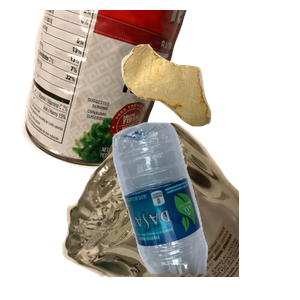glass: (60, 120, 300, 300)
metal: (20, 10, 199, 172)
plastic: (110, 120, 300, 300)
trash: (119, 42, 300, 161)
